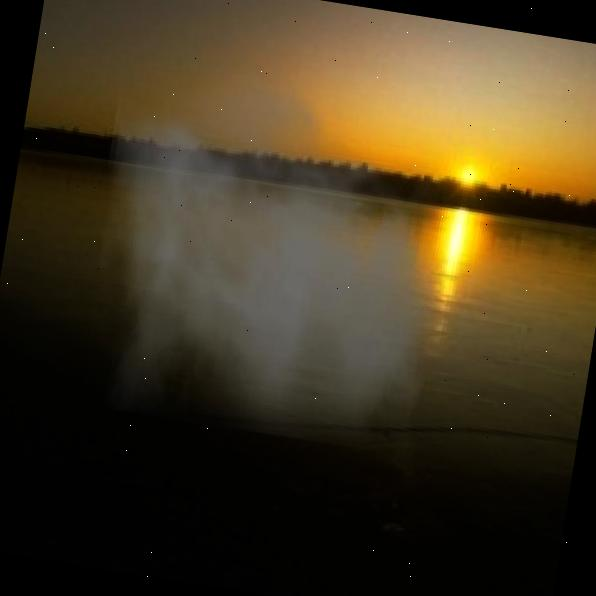smoke: (70, 35, 469, 457)
